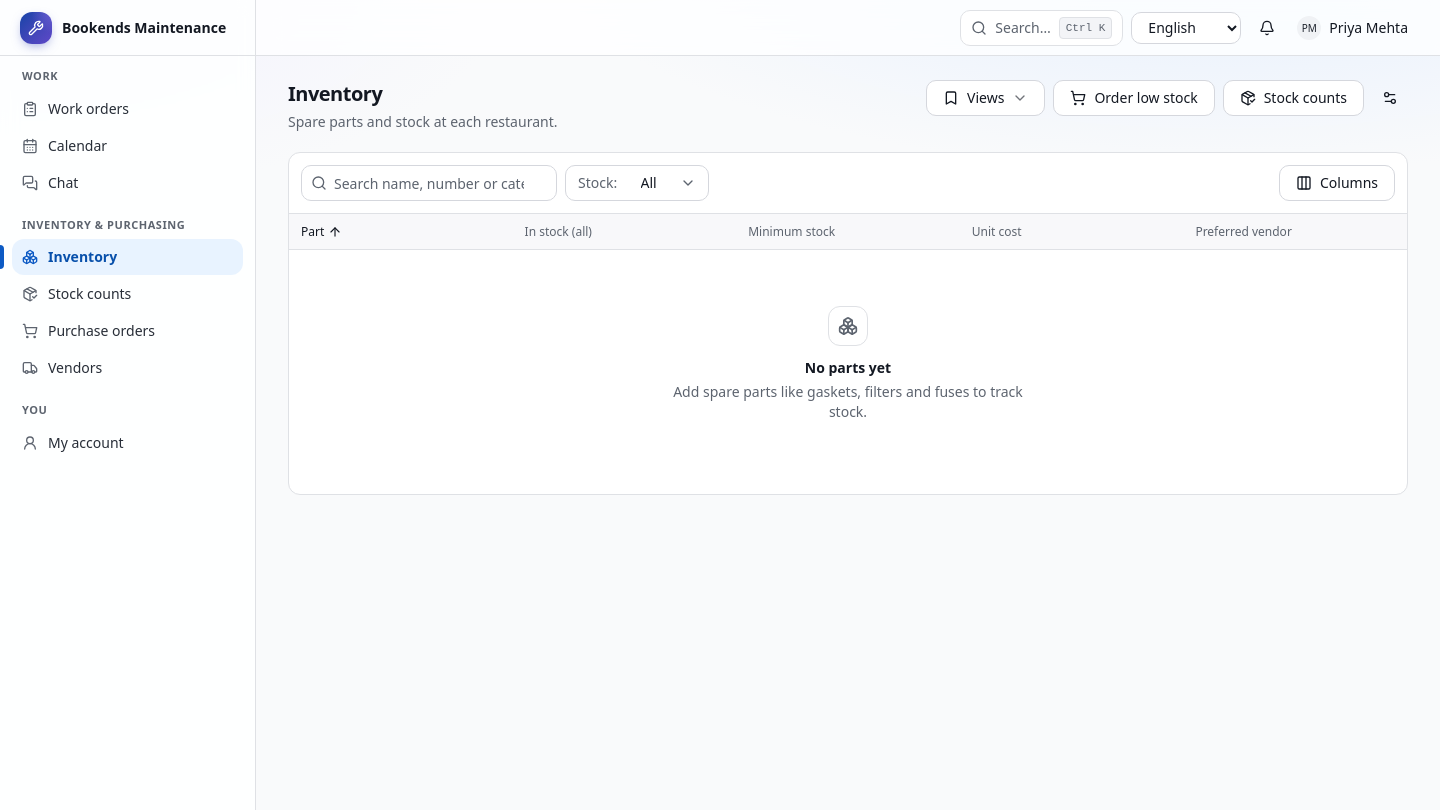
low stock purchase requests › drafts orders and lists parts that still need a vendor
Click the button "Order low stock" at (1134, 98), box [1053, 80, 1215, 116]
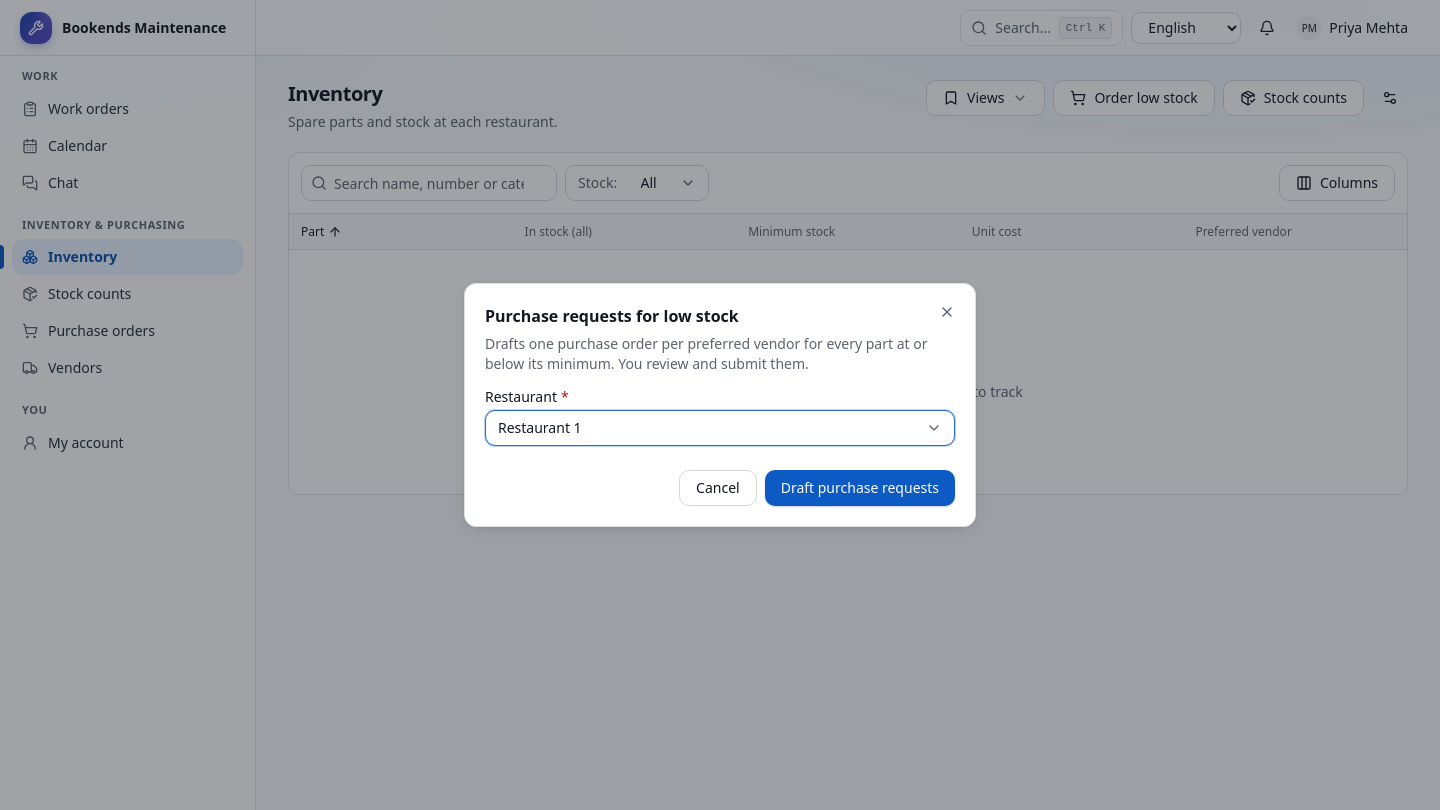
Click the button "Draft purchase requests" at (860, 488), box [765, 470, 955, 506]
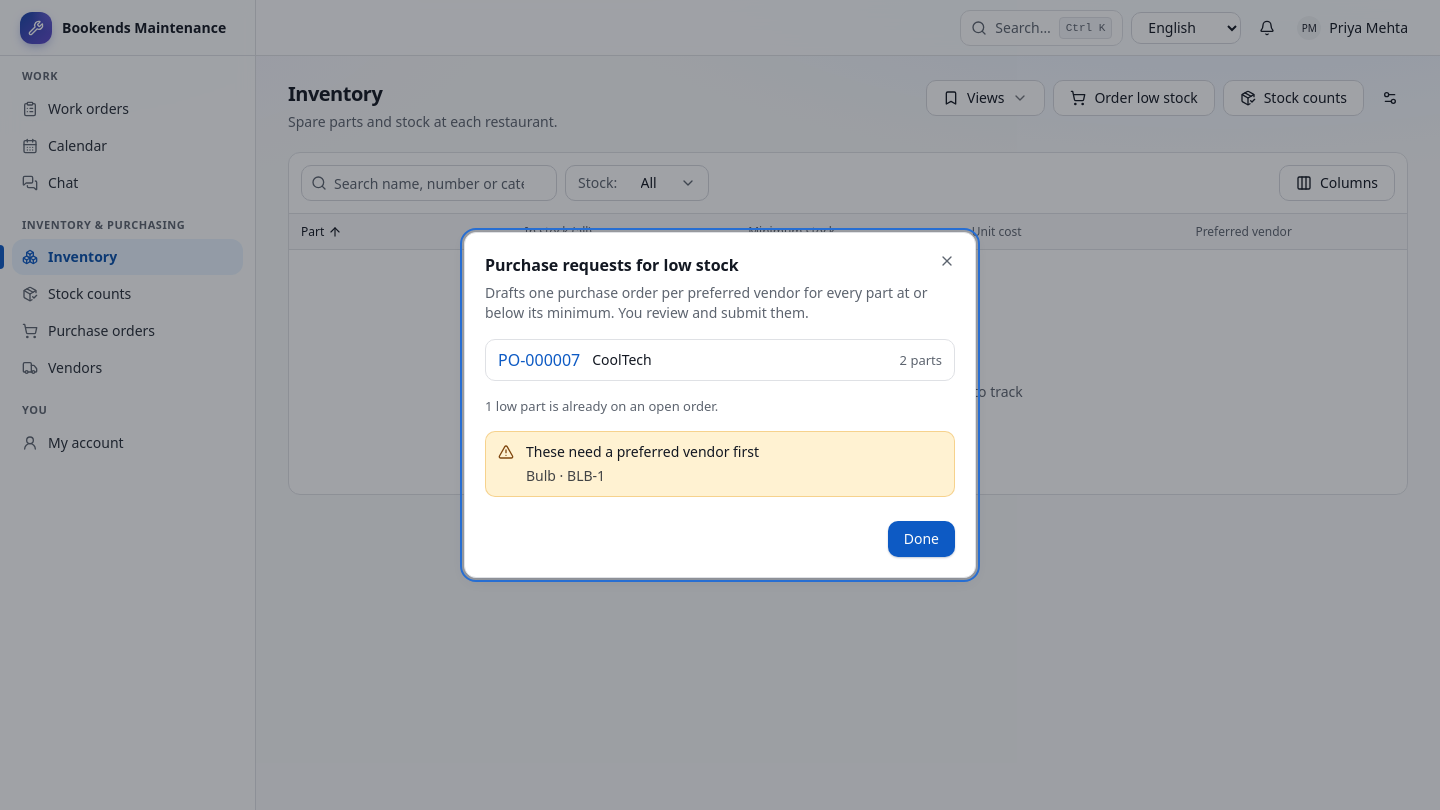
expect the text "1 low part is already on an open order." is shown: met, box [485, 397, 718, 415]
expect the text "These need a preferred vendor first" is shown: met, box [526, 442, 759, 461]
